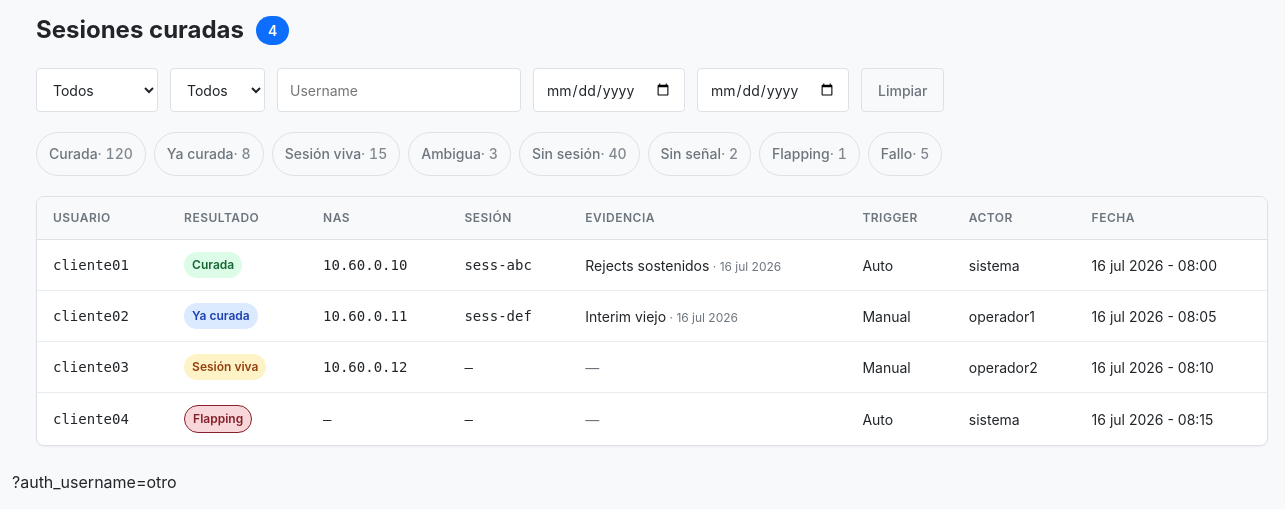
Scenario: RadiusSessionCuresPage — filtros en la URL › preserva los parámetros de los tabs vecinos (namespace ajeno) al filtrar
The image size is (1285, 509).
Select "Curada" in the dropdown named "filtrar por resultado" at (97, 90), box [36,68,158,112]
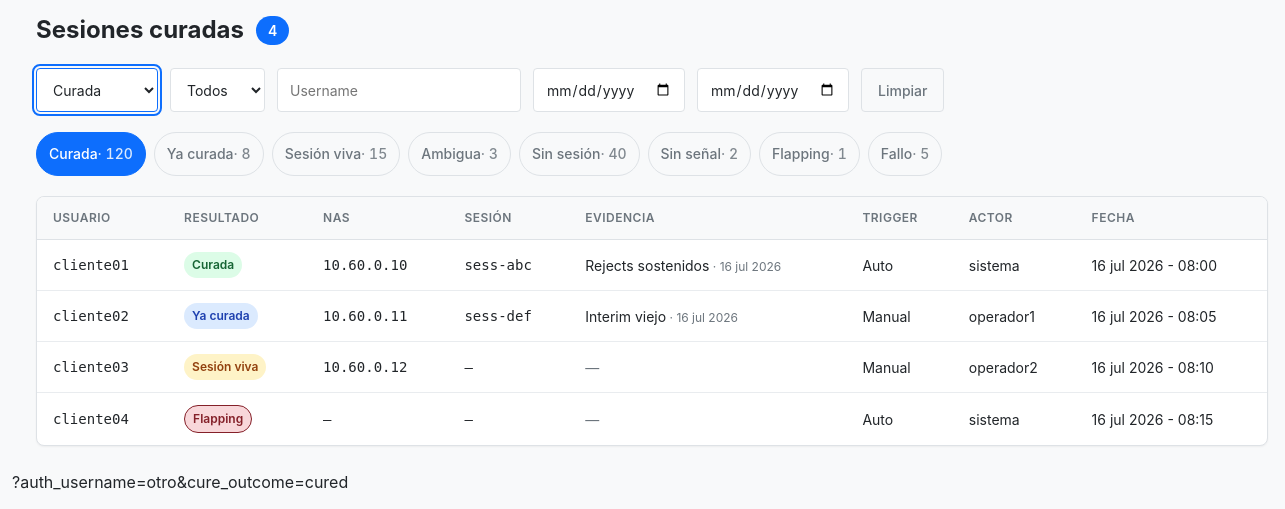
Check: the text with test id "location-search" shows "auth_username=otro", box [12,472,348,492]
Check: the text with test id "location-search" shows "cure_outcome=cured", box [12,472,348,492]
